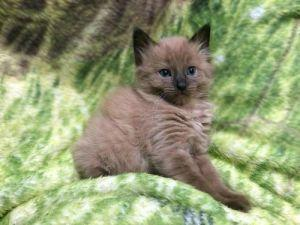siamese: (130, 20, 216, 109)
